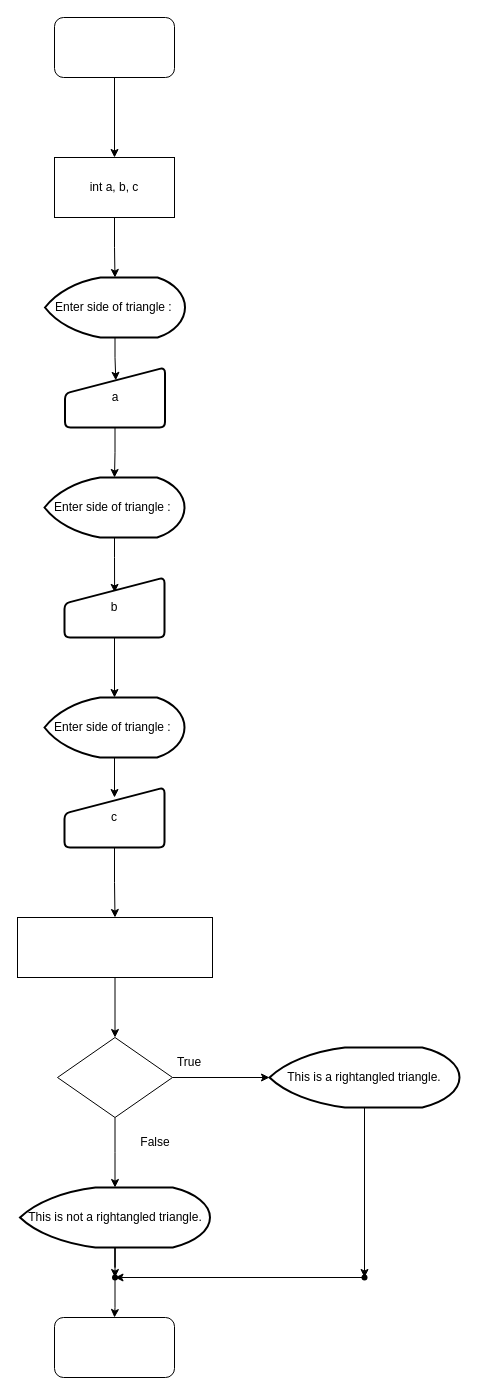
Some shapes in this 478 by 1395 pixel diagram are drawn without their labels. The box of each missing label's shape, as (x1, y1, x2, y2) in pixels:
END: (54, 1316, 174, 1378)
float res = sqrt(a^2 + b^2): (16, 916, 212, 978)
res == (float) c: (56, 1036, 172, 1118)
START: (54, 16, 174, 78)
